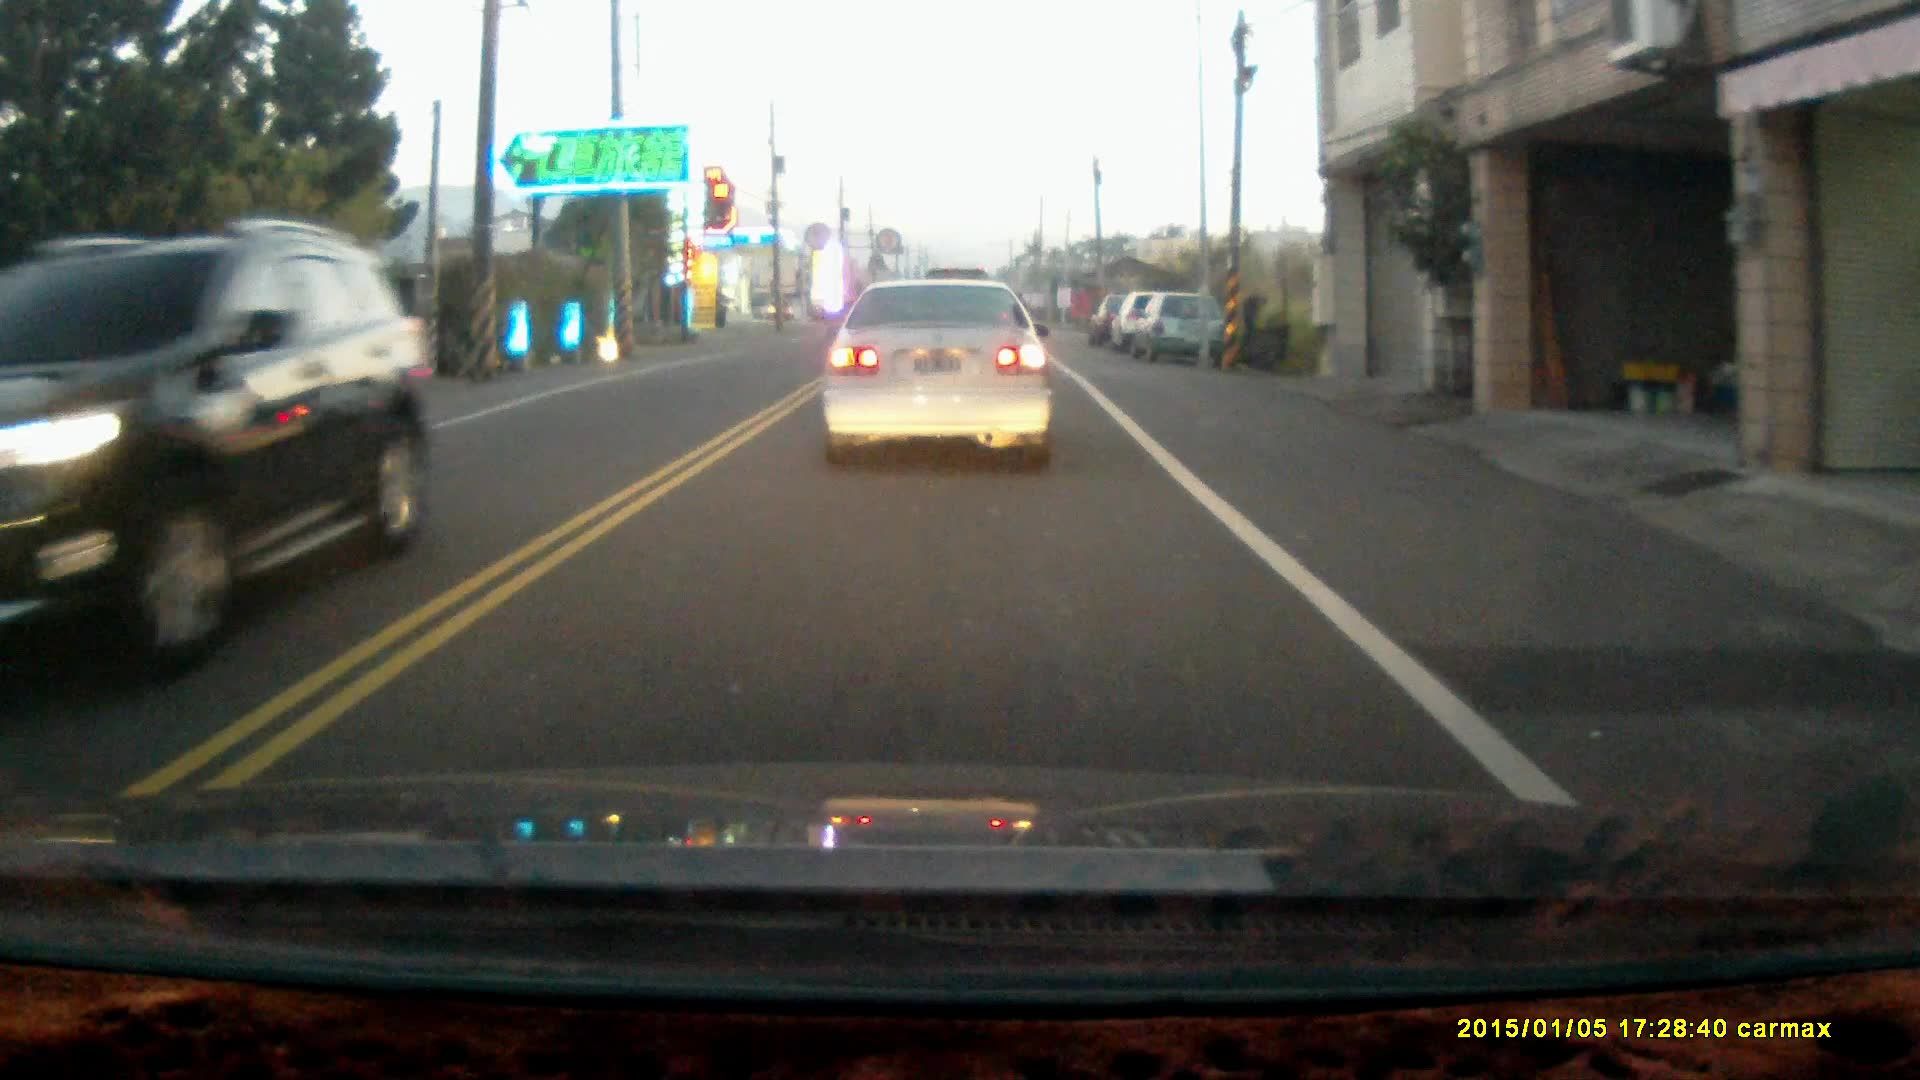vehicle: (1, 219, 440, 691), (819, 278, 1054, 468), (1127, 293, 1224, 365), (1116, 293, 1196, 351)
